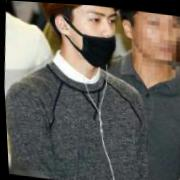NONE: (133, 10, 180, 66)
WRONG: (65, 4, 122, 71)
